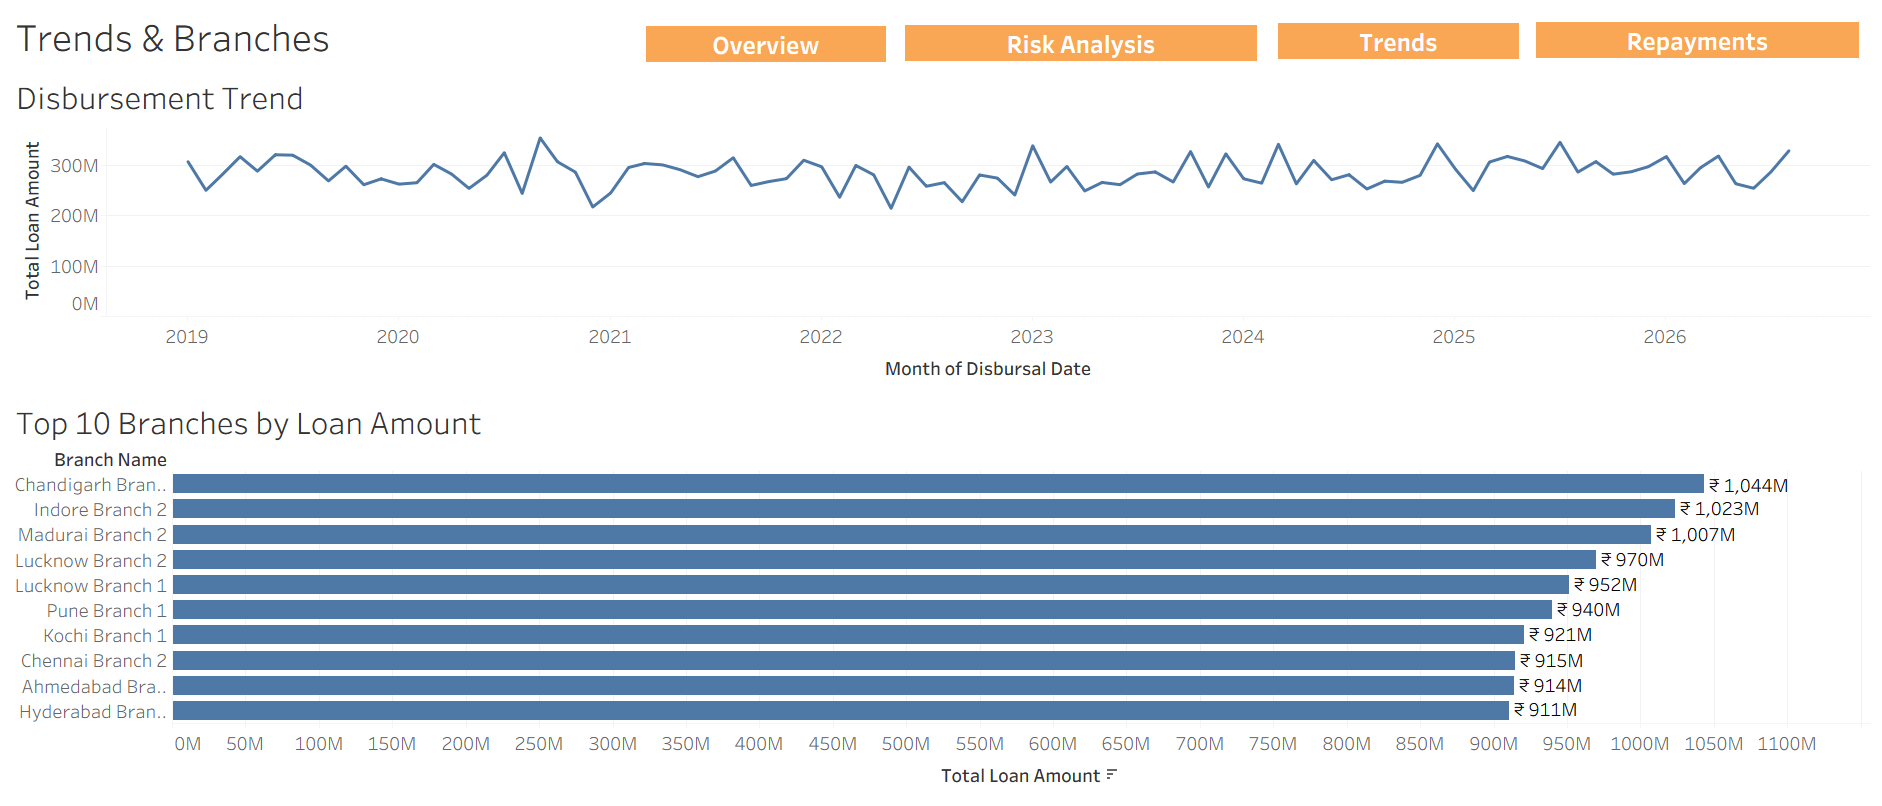

This screenshot's page, from the dashboard's own definition file:
{"tool":"tableau","page":{"name":"Trends","canvas":[1000,800],"ordinal":3},"visuals":[{"type":"title","box":[8,8,984,58]},{"type":"dashboard-object","box":[816,22,172,36]},{"type":"dashboard-object","box":[679,23,128,36]},{"type":"dashboard-object","box":[481,25,187,36]},{"type":"dashboard-object","box":[343,26,128,36]},{"type":"worksheet","title":"Disbursement Trend","mark":"Line","rows":["Calculation_0920897662255105"],"cols":["disbursal_date"],"box":[8,66,984,322]},{"type":"worksheet","title":"Top 10 Branches by Loan Amount","mark":"Automatic","rows":["branch_name"],"cols":["Calculation_0920897662255105"],"box":[8,388,984,404]}]}

Visuals, with their boxes on the page's 1000x800 design canvas (x1, y1, x2, y2). These are canvas units, not pixel positions in the 1882x806 screenshot, which may show the page scaled, cropped or inside an application window:
title: 8 8 992 66
dashboard-object: 816 22 988 58
dashboard-object: 679 23 807 59
dashboard-object: 481 25 668 61
dashboard-object: 343 26 471 62
"Disbursement Trend" worksheet (Line marks): 8 66 992 388
"Top 10 Branches by Loan Amount" worksheet: 8 388 992 792
